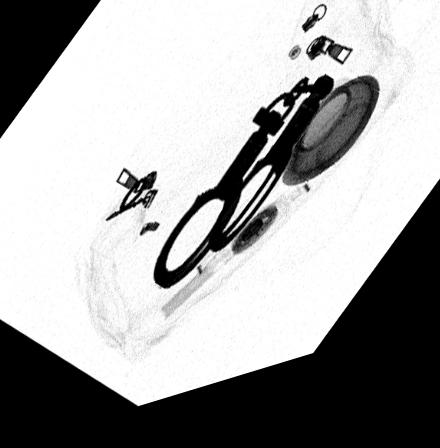HandCuffs: (152, 87, 336, 300)
